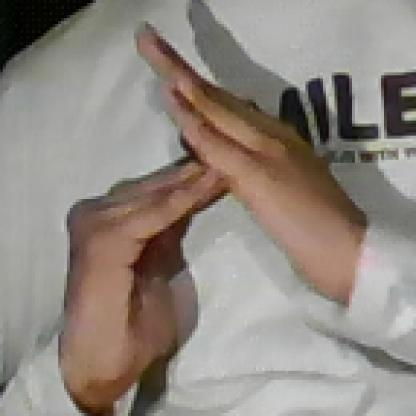Z: (58, 15, 332, 353)
